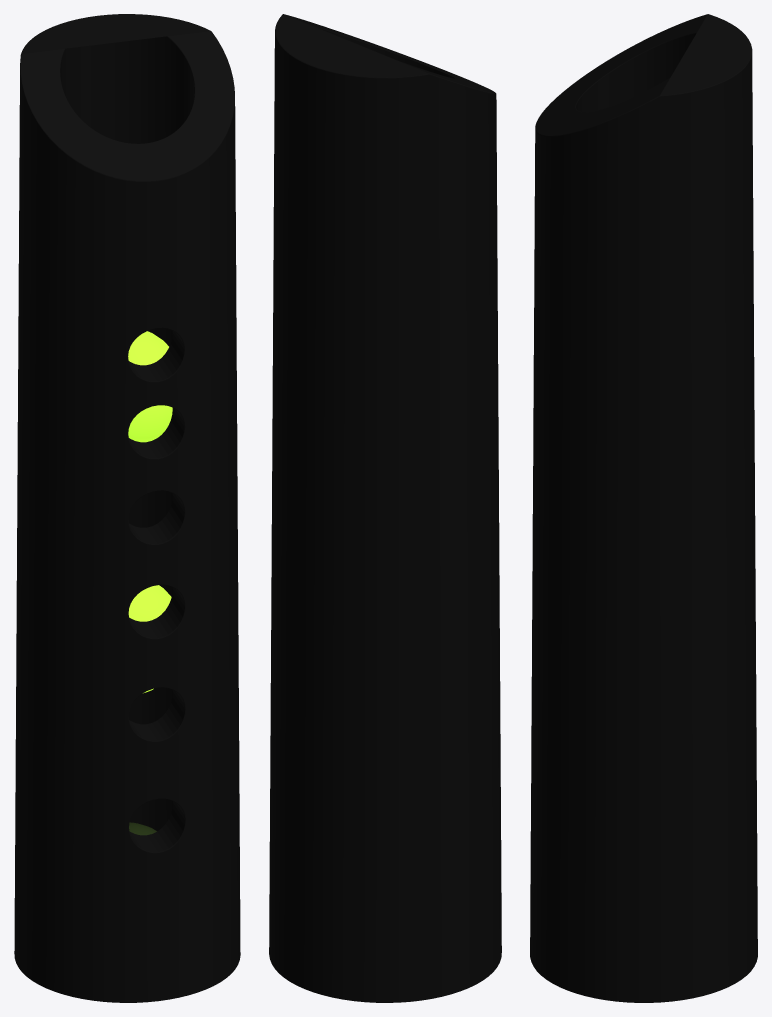
3 views of the same model, side by side, from view 1: azimuth 30°, elevation 25°; view 2: azimuth 150°, elevation 25°; view 3: azimuth 270°, elevation 25° (orthographic). The views are drawn at different scales.
Parts seen in each view (by area): view 1: fue_tube, fue_orb_2, fue_orb_1; view 2: fue_tube; view 3: fue_tube.
Part boxes in pixels (box(x1,y1,x2,y2)): fue_tube: box(14, 14, 240, 1002); fue_orb_2: box(128, 331, 172, 442); fue_orb_1: box(128, 585, 171, 693); fue_tube: box(269, 14, 501, 1002); fue_tube: box(530, 14, 757, 1002).
Size of the model in its own units: 0.4794 by 2.1 by 0.4794.
